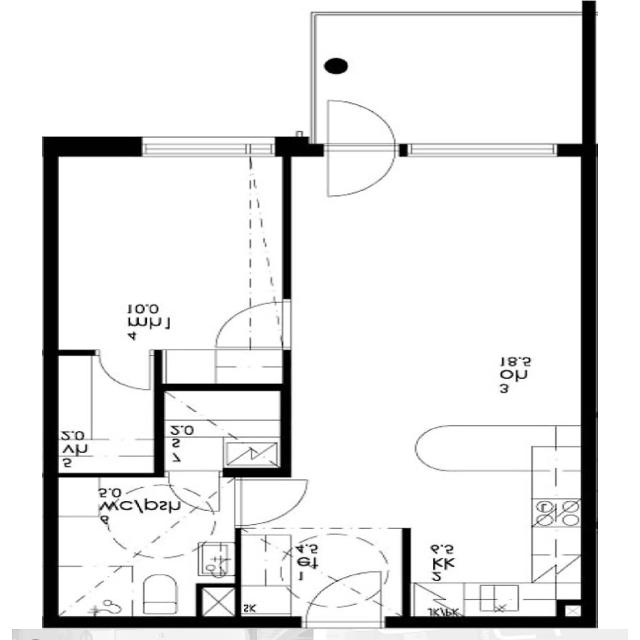door: (52, 348, 159, 472), (314, 96, 401, 200), (295, 564, 392, 628), (223, 472, 314, 530), (210, 297, 294, 354), (398, 421, 473, 476), (93, 349, 158, 393), (161, 465, 223, 502)
window: (396, 136, 574, 164), (131, 130, 283, 160)
zone: (52, 151, 288, 356), (404, 467, 586, 620), (48, 474, 212, 620), (50, 352, 158, 476), (156, 387, 288, 473), (402, 420, 554, 478), (154, 348, 290, 387)
